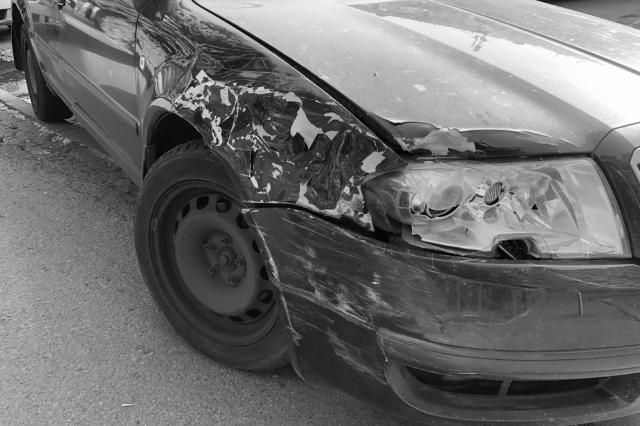Bonnet: (353, 56, 581, 154)
Bumper: (252, 232, 558, 401)
Fender: (142, 15, 367, 210)
Light: (388, 162, 611, 262)
